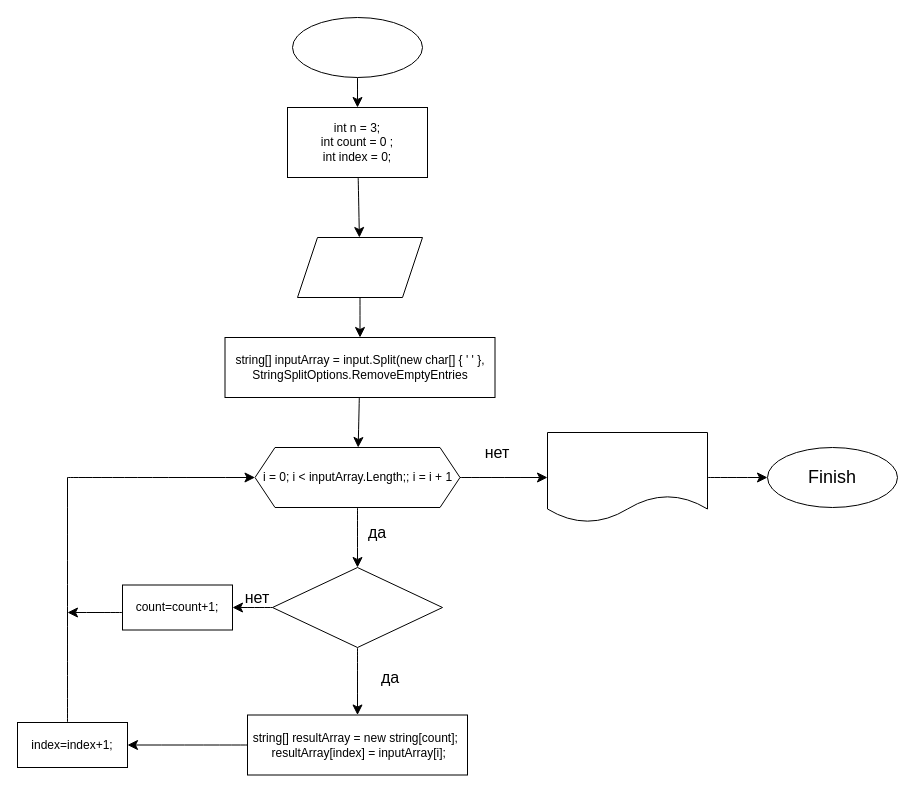
The diagram is 915 pixels wide and 793 high, and some of its shapes have lost their labels. The shapes that lost their labels are listed below. From the top down, each one's centre as x and y in pixels, then its label:
point (357, 47): Start
point (359, 267): "Введите строки массива через пробел"
point (627, 477): inputArray resultArray
point (357, 607): inputArray[i].Length <= n
